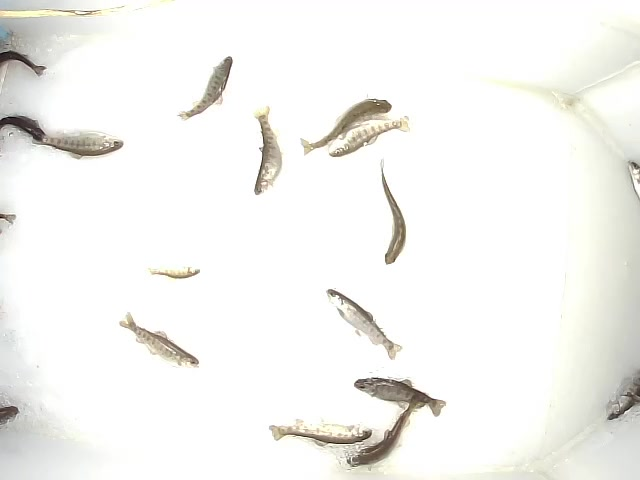fish: (346, 391, 428, 473), (300, 93, 393, 156), (325, 288, 403, 362), (118, 310, 201, 370), (353, 375, 447, 420), (177, 54, 234, 121), (327, 114, 411, 158), (268, 417, 372, 448), (378, 158, 407, 267), (252, 104, 285, 196), (31, 129, 125, 161), (1, 113, 49, 145), (146, 263, 202, 280)
